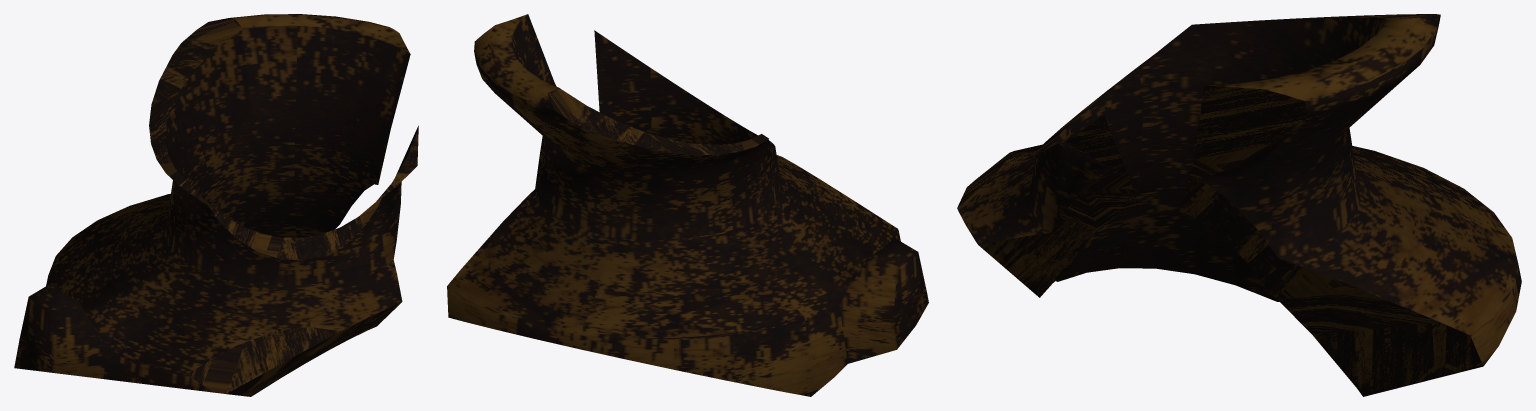
The model's file is PoteryPiece3.fbx.
3 views of the same model, side by side, from view 1: azimuth 30°, elevation 25°; view 2: azimuth 150°, elevation 25°; view 3: azimuth 270°, elevation 25° (orthographic). The views are drawn at different scales.
Parts seen in each view (by area): view 1: Cylinder_cell.002; view 2: Cylinder_cell.002; view 3: Cylinder_cell.002.
Part boxes in pixels (x1,y1,x2,y2): Cylinder_cell.002: (14, 14, 418, 396); Cylinder_cell.002: (447, 14, 928, 396); Cylinder_cell.002: (957, 14, 1521, 396).
Size of the model in its own units: 269 by 185 by 245.
